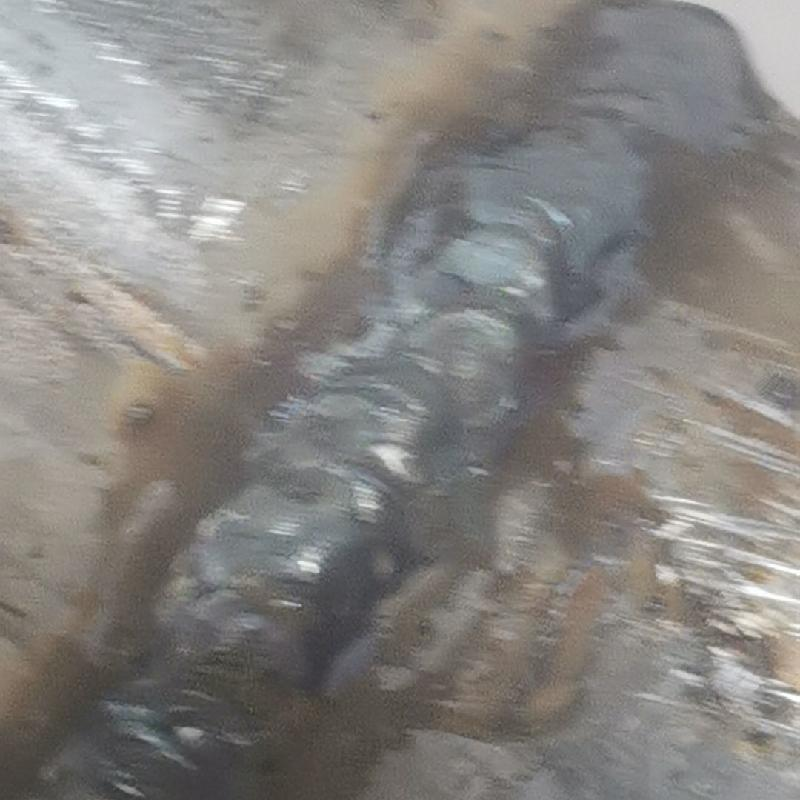good: (26, 0, 753, 796)
